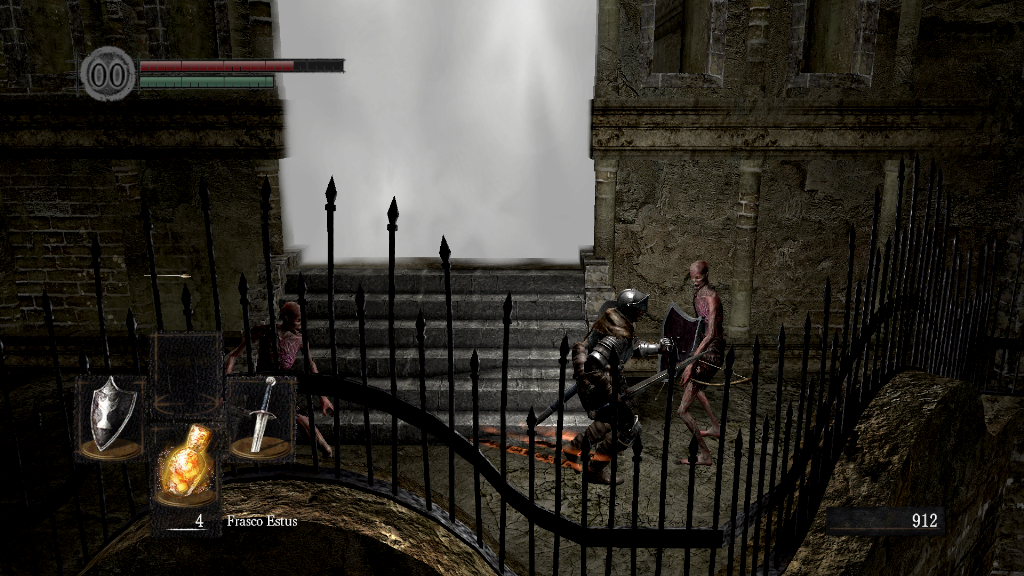health: (138, 58, 343, 71)
hollow: (216, 301, 338, 463), (678, 260, 731, 471)
humanity: (80, 45, 136, 102)
player: (530, 288, 713, 486)
souls: (825, 506, 945, 536)
stamina: (138, 74, 274, 88)
